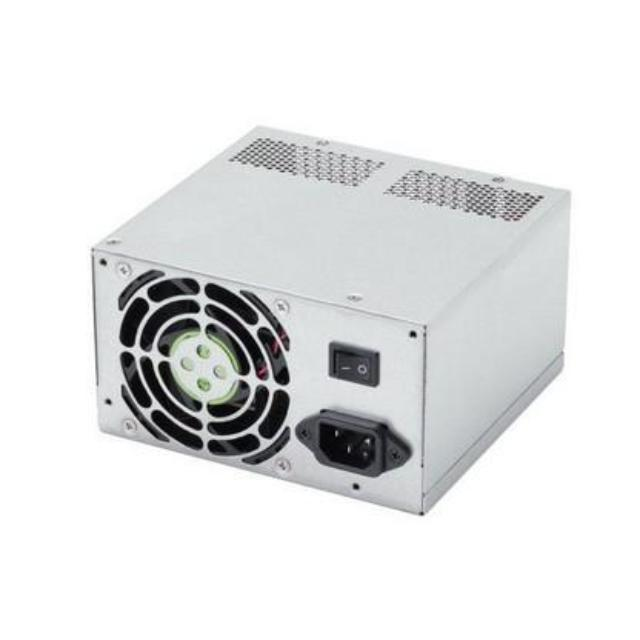PSU: (78, 113, 590, 522)
